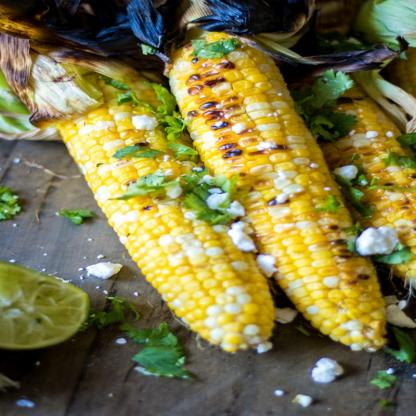---: (157, 31, 389, 353)
